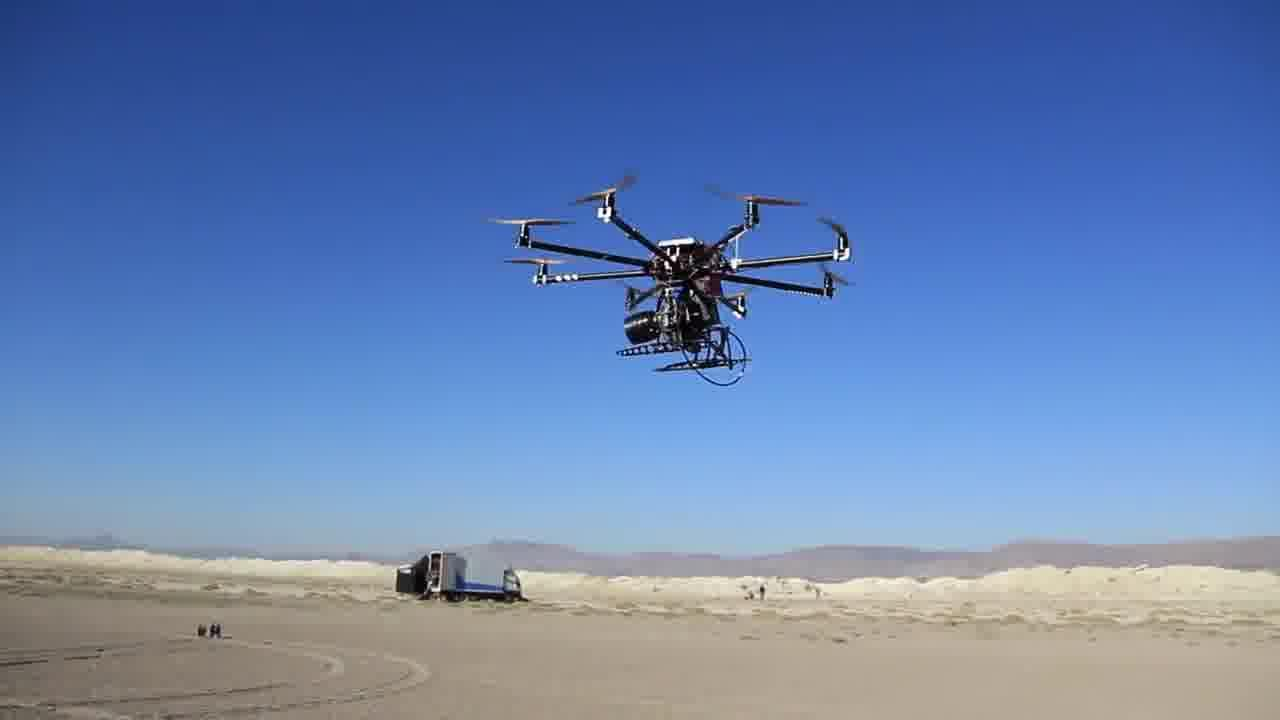drone: (488, 156, 853, 391)
